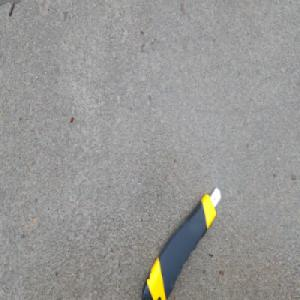Cutter: (139, 184, 222, 300)
